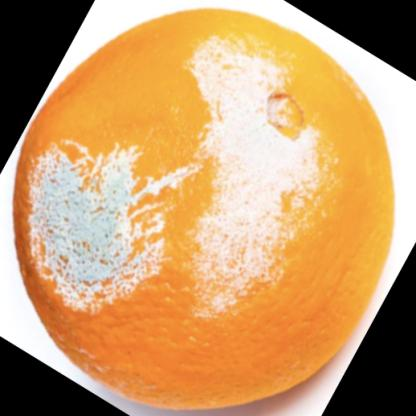rotten: (11, 9, 398, 411)
